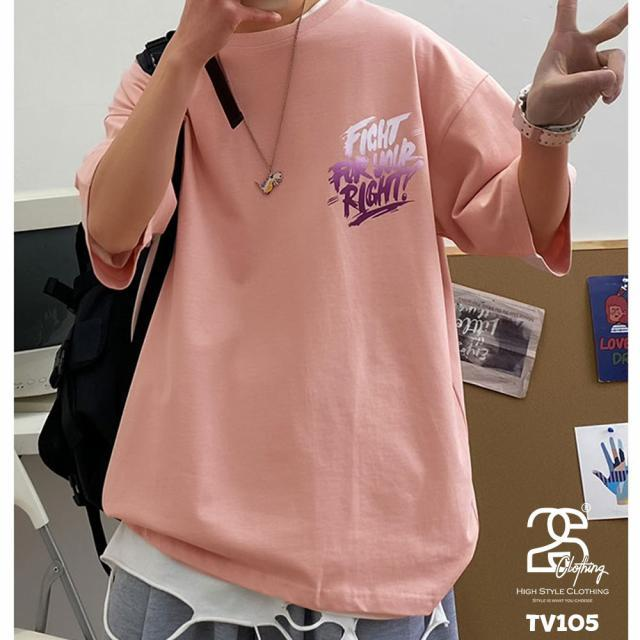Shirt: (79, 0, 580, 615)
